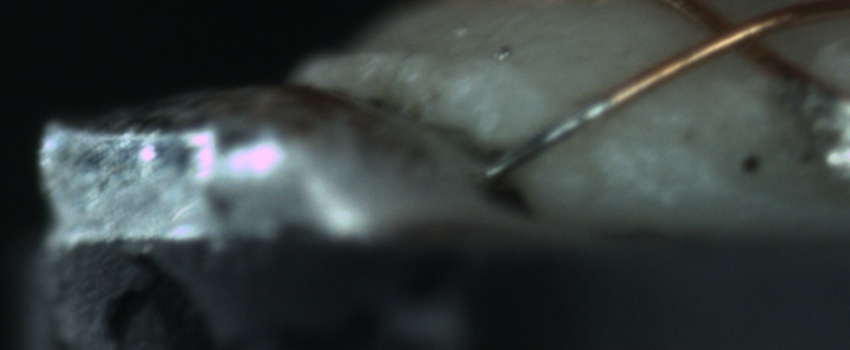CL: (684, 4, 784, 66)
TS: (487, 94, 612, 180)
TTCW: (485, 76, 648, 182)
